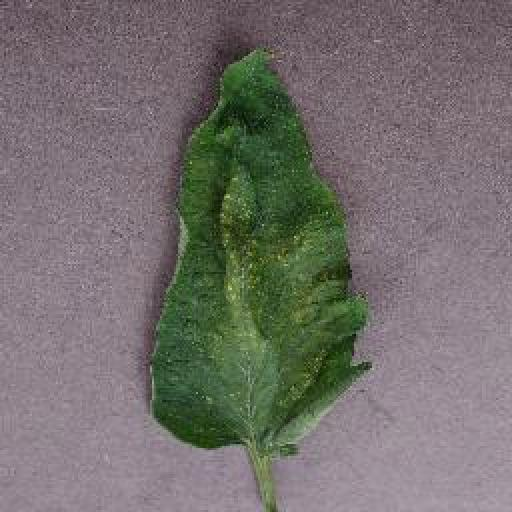disease_tomato: (150, 46, 374, 458)
